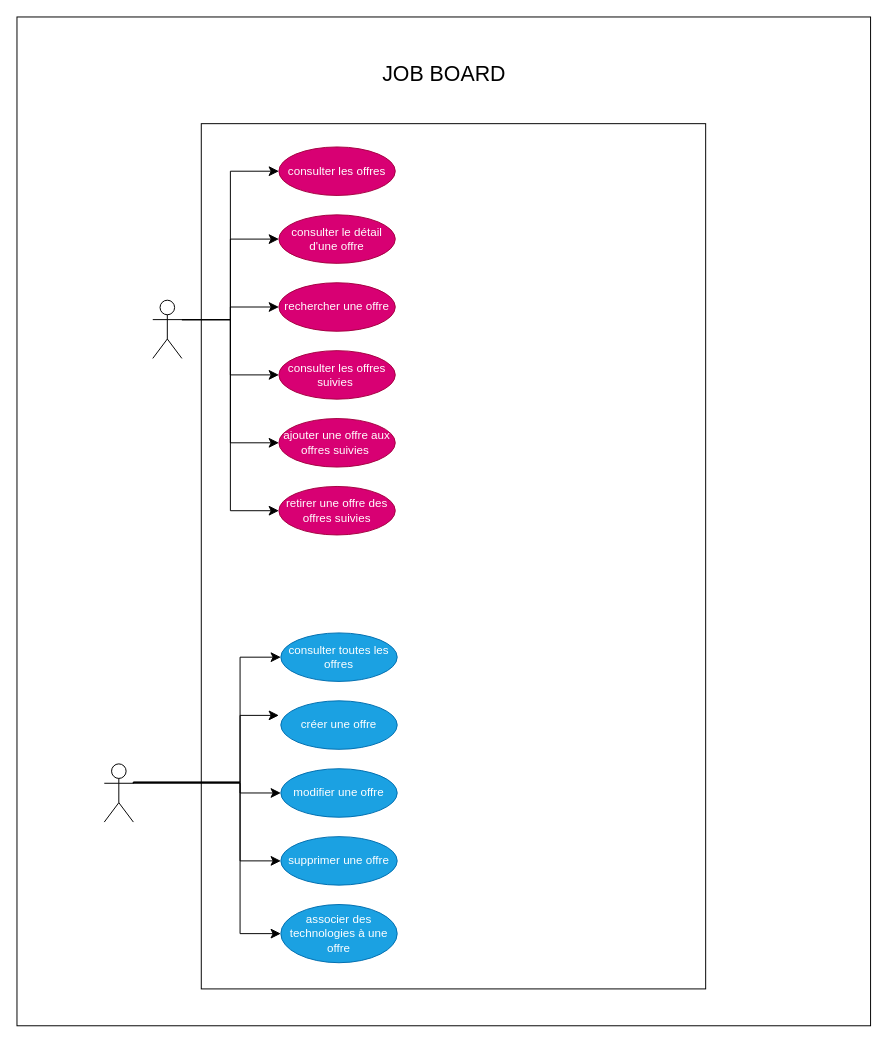
This 888x1043 diagram has some shape labels left out. The shapes that lost their labels are listed below. From the top down, each one's centre as x and y in pixels, then its label:
At point (167, 328): "Visiteur".
At point (118, 792): "Administrateur".
